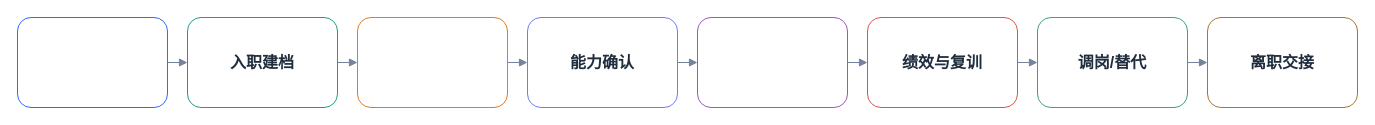
The diagram is 1375 pixels wide and 125 high, and some of its shapes have lost their labels. The box of each missing label's shape, as (x1, y1, x2, y2) in pixels:
上岗授权: (696, 16, 848, 108)
岗位培训: (356, 16, 508, 108)
需求与招聘: (16, 16, 168, 108)
